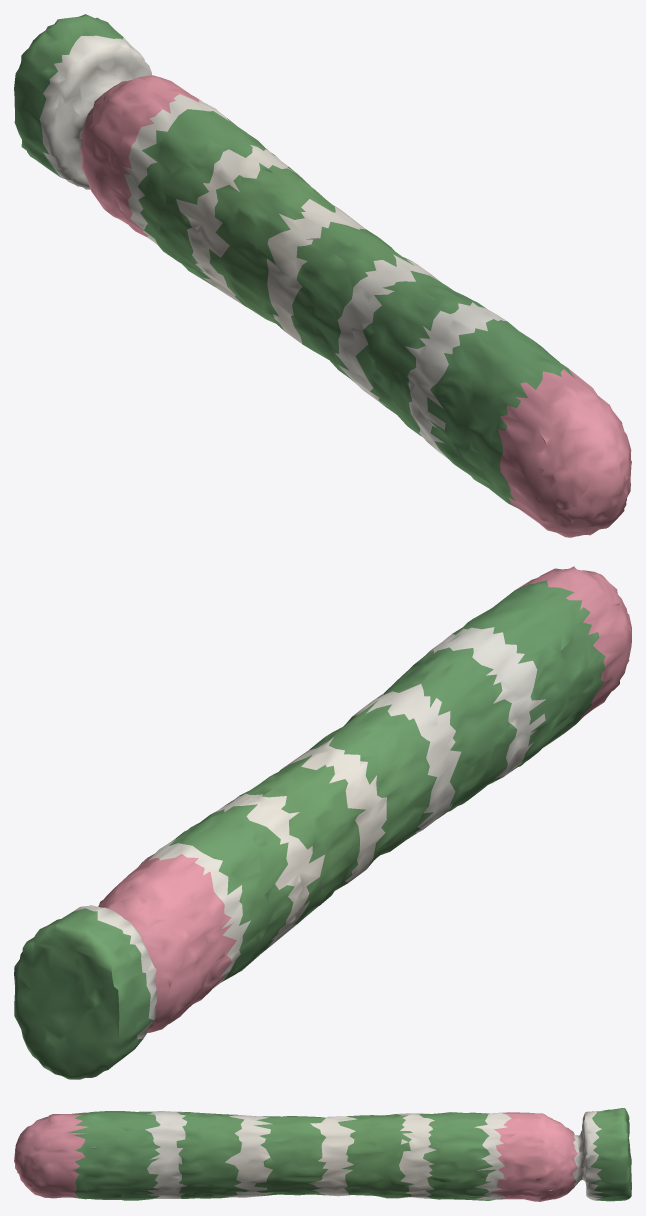
Rendered from den_sock_c.glb.
3 views of the same model, one above another, from view 1: azimuth 30°, elevation 25°; view 2: azimuth 150°, elevation 25°; view 3: azimuth 270°, elevation 25° (orthographic). The views are drawn at different scales.
Visible parts, largest first — view 1: den_sock_c; view 2: den_sock_c; view 3: den_sock_c.
Part boxes in pixels (left/top/right/bottom): den_sock_c: left=14, top=14, right=631, bottom=537; den_sock_c: left=14, top=566, right=631, bottom=1079; den_sock_c: left=14, top=1108, right=631, bottom=1201.
Bounding box in the file's own units: 2.84 × 3.62 × 23.84.
